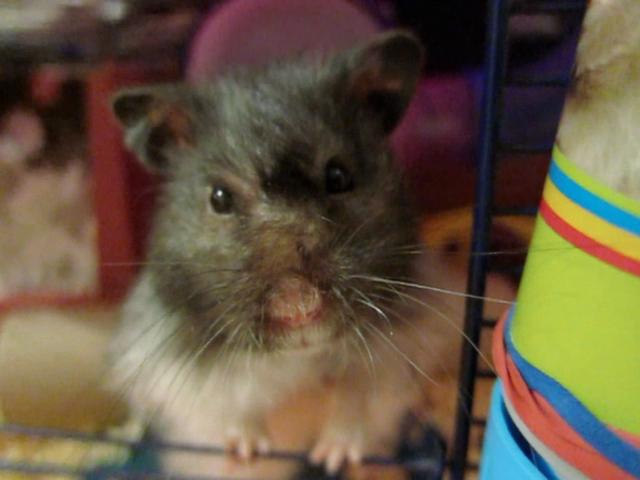mouse: (88, 46, 451, 462)
